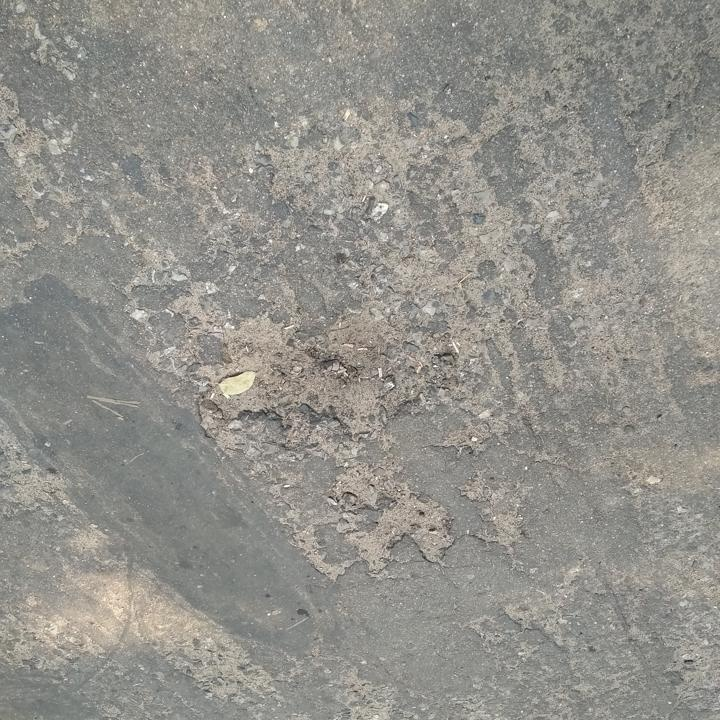pothole: (187, 306, 437, 448), (296, 462, 457, 579)
